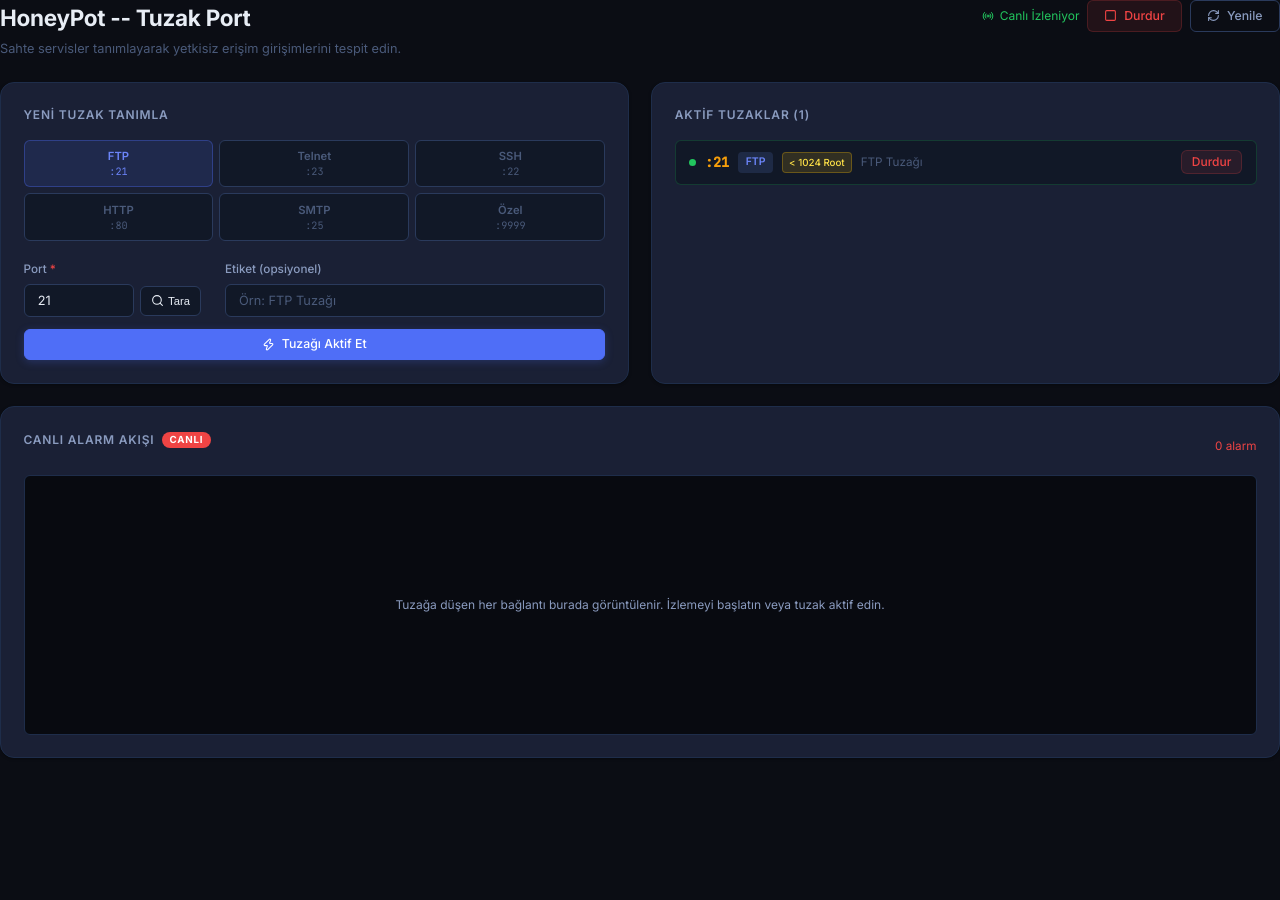
it: HoneypotView Bileşeni › aktif bir tuzak durdurulduğunda delete api çağrılmalı
This screenshot has width=1280, height=900.
Check: the text "FTP Tuzağı" is shown, box [861, 153, 922, 172]
Click the button "Durdur" in the row of "FTP Tuzağı": (1212, 162) [1181, 150, 1242, 174]
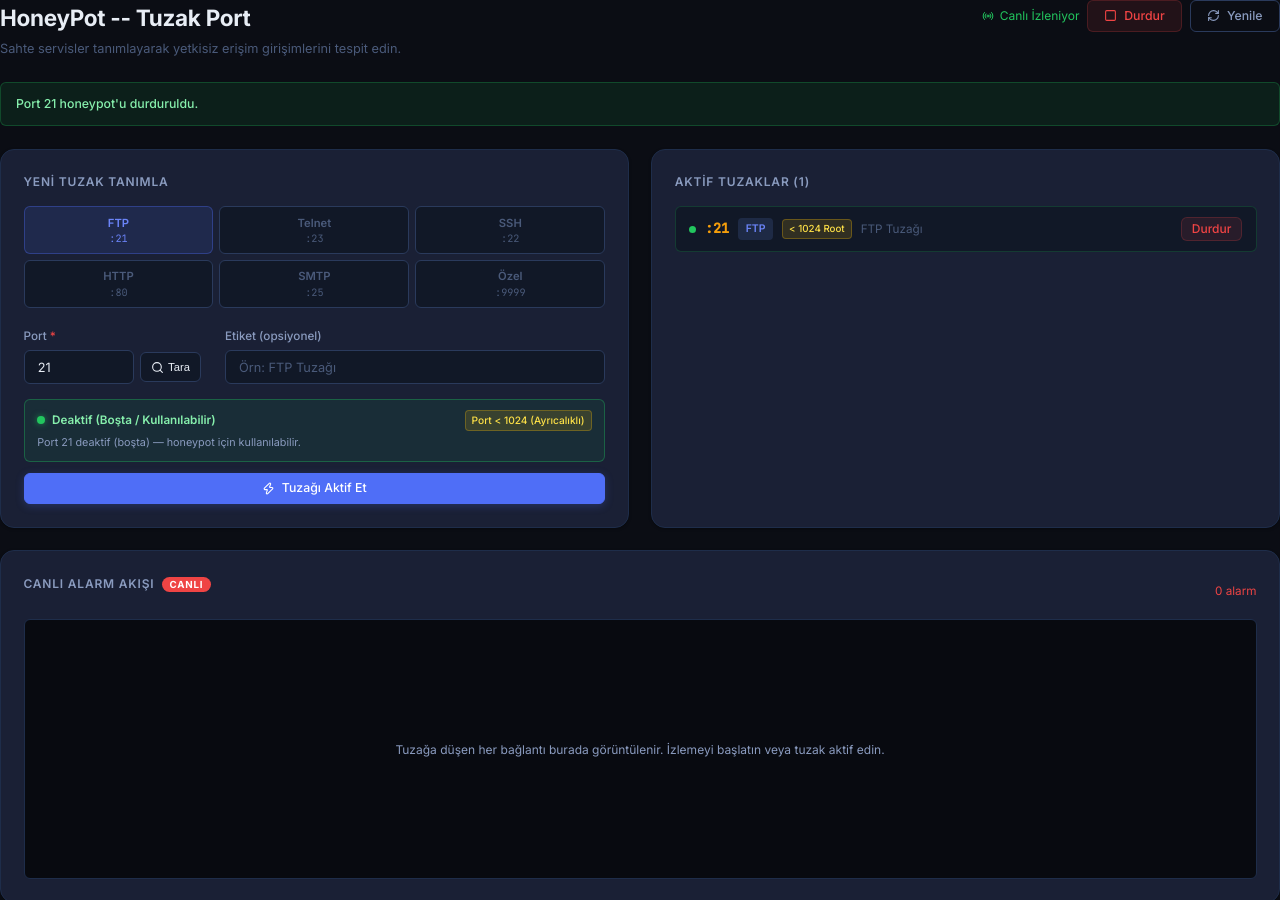
Check: the text "Port 21 honeypot'u durduruldu." is shown, box [0, 82, 1279, 126]
